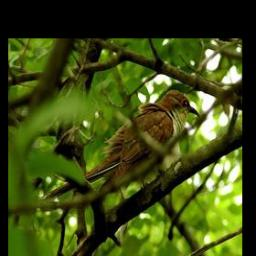Cuckoo: (41, 87, 200, 203)
